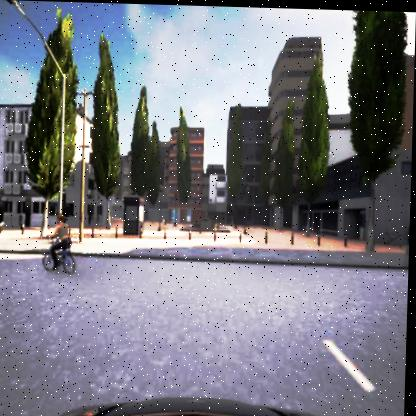bike: (42, 217, 78, 272)
